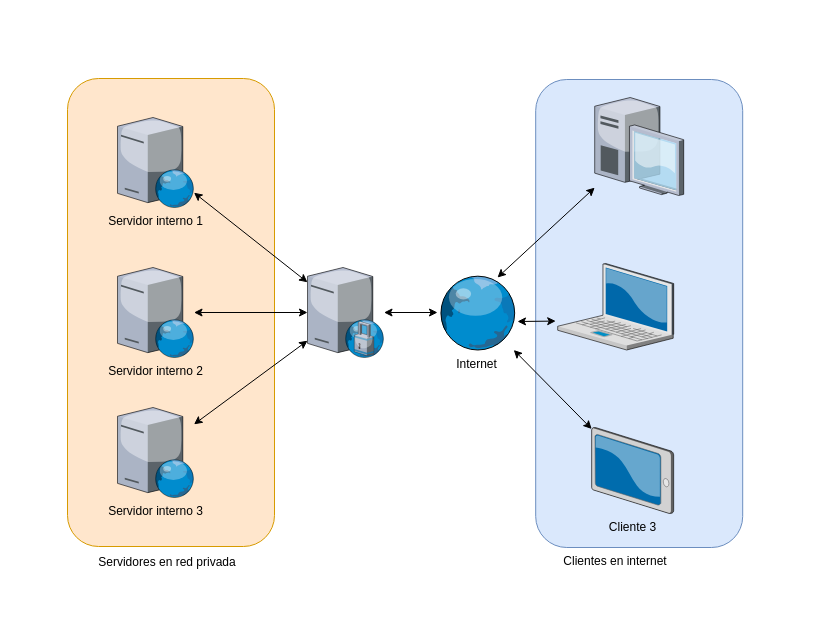
Image size: 834x634. Some labels were removed from this diagram. Here are the shapes that lost their labels. From the top down, the box of each, then its label:
(594, 97, 683, 195): Cliente 1
(307, 267, 384, 357): Proxy Inverso
(557, 263, 673, 350): Cliente 2
